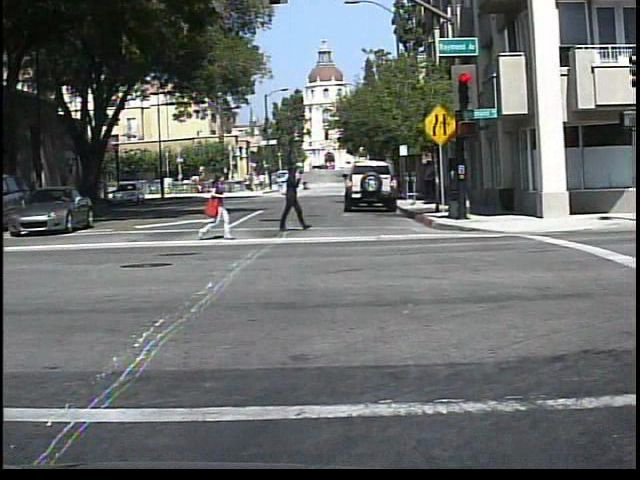person: (194, 166, 239, 242), (271, 162, 311, 235), (270, 172, 286, 193), (301, 177, 311, 194)
